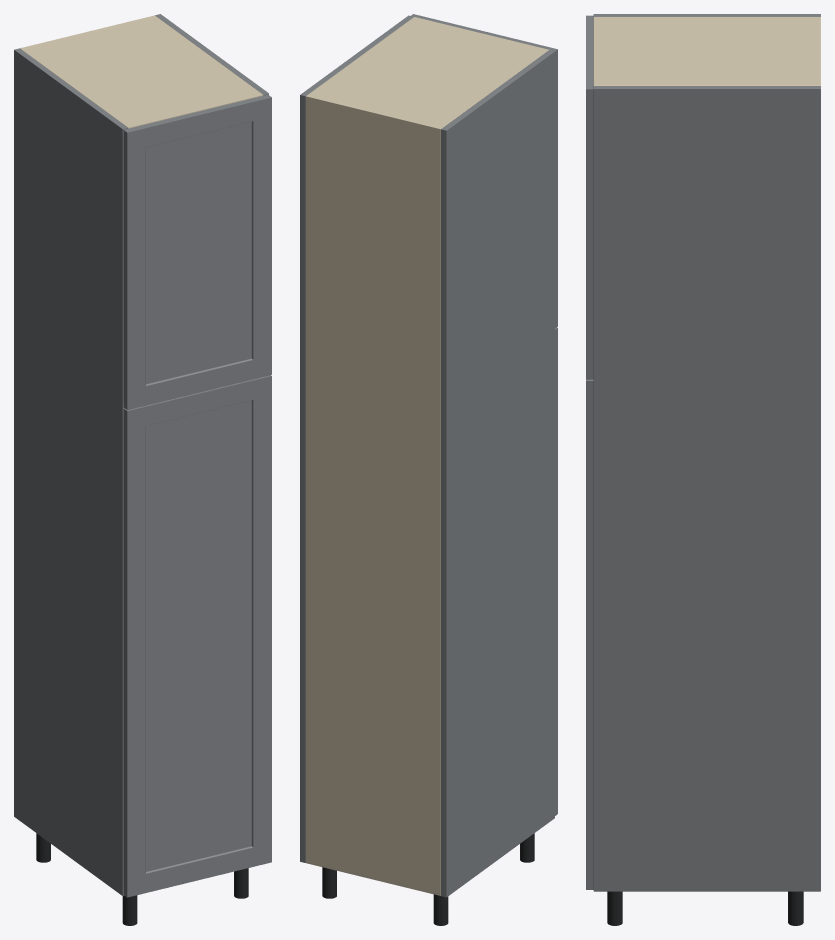
Rendered from oppein-ply-gss-pc1890.glb.
3 renders of one model, left to right at view 1: azimuth 30°, elevation 25°; view 2: azimuth 150°, elevation 25°; view 3: azimuth 270°, elevation 25°, orthographic. The views are drawn at different scales.
Parts seen in each view (by area): view 1: Cabinet side, Door, Door.001, Cabinet top, Cabinet side.001; view 2: Cabinet back, Cabinet side, Cabinet top, Cabinet side.001, Door, Door.001; view 3: Cabinet side.001, Cabinet top, Door, Door.001, Cabinet side, Adjustable foot.002, Adjustable foot.003.
Boxes of the visible parts, <box> form: Cabinet side: <box>14,48,128,895</box>; Door: <box>123,375,271,897</box>; Door.001: <box>123,95,271,409</box>; Cabinet top: <box>22,17,263,128</box>; Cabinet side.001: <box>155,14,268,95</box>; Cabinet back: <box>306,95,442,895</box>; Cabinet side: <box>441,50,554,897</box>; Cabinet top: <box>306,17,548,133</box>; Cabinet side.001: <box>300,15,413,862</box>; Door: <box>555,327,557,815</box>; Door.001: <box>411,14,557,328</box>; Cabinet side.001: <box>593,86,820,891</box>; Cabinet top: <box>593,17,816,85</box>; Door: <box>586,379,593,889</box>; Door.001: <box>586,15,593,379</box>; Cabinet side: <box>593,14,820,16</box>; Adjustable foot.002: <box>788,891,803,925</box>; Adjustable foot.003: <box>607,891,622,925</box>.
Bounding box in the file's own units: 0.4572 × 2.4 × 0.6064.
